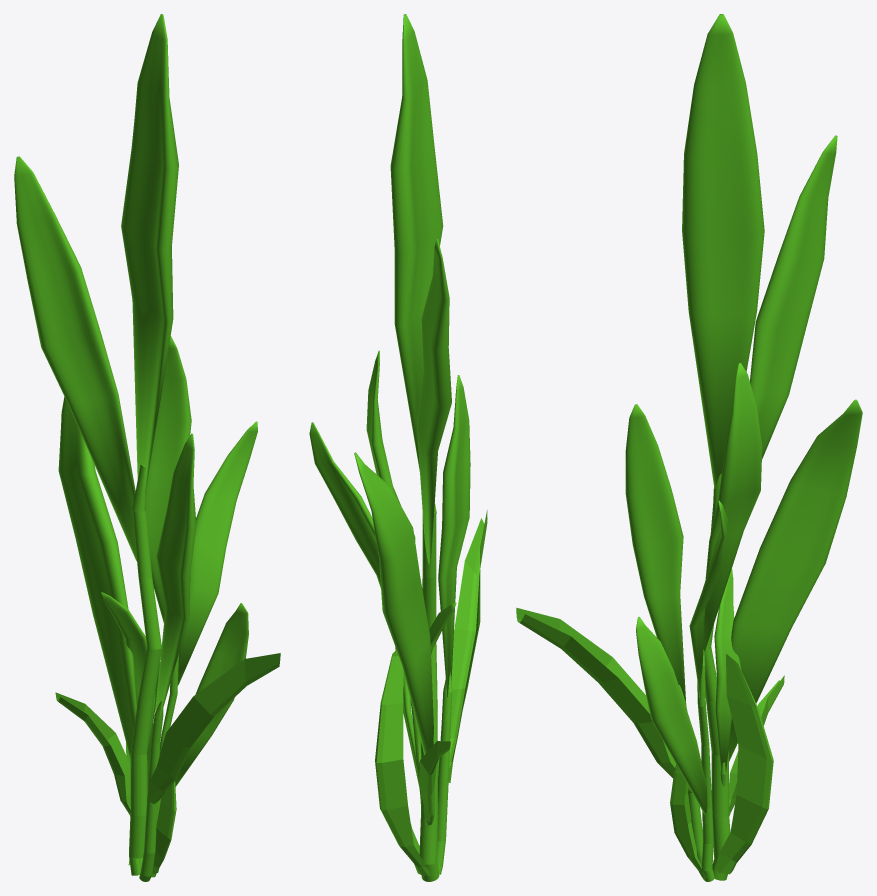
File: wheat2.fbx
3 views of the same model, side by side, from view 1: azimuth 30°, elevation 25°; view 2: azimuth 150°, elevation 25°; view 3: azimuth 270°, elevation 25° (orthographic). The views are drawn at different scales.
Visible parts, largest first — view 1: wheat stage 2; view 2: wheat stage 2; view 3: wheat stage 2.
Part boxes in pixels (bbox=[...]): wheat stage 2: bbox=[14, 14, 280, 881]; wheat stage 2: bbox=[309, 14, 487, 881]; wheat stage 2: bbox=[516, 14, 862, 881].
Size of the model in its own units: 13.11 by 56.44 by 20.23.
